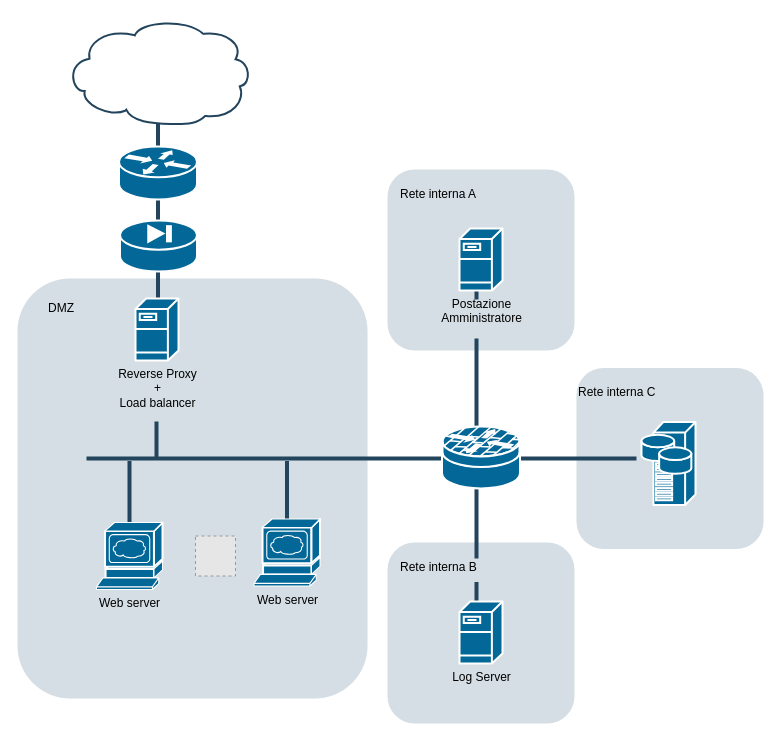
The diagram is 780 pixels wide and 740 high, and some of its shapes have lost their labels. Grey dashed boxes stand in for pictures. Each missing label, with the centre of its shape:
DB server: point 668,463
Internet: point 158,71
